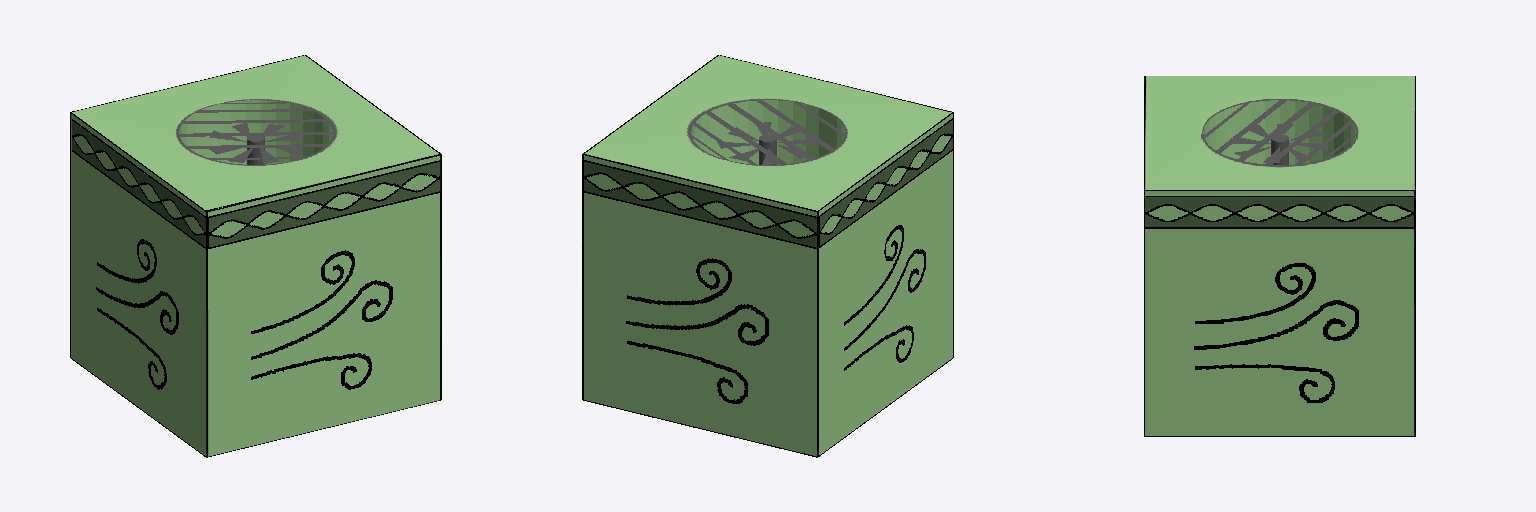
The picture shows the model from 3 angles: view 1: azimuth 30°, elevation 25°; view 2: azimuth 150°, elevation 25°; view 3: azimuth 270°, elevation 25°; orthographic projection.
Parts seen in each view (by area): view 1: 円柱; view 2: 円柱; view 3: 円柱.
Boxes of the visible parts, <box> form: 円柱: <box>70,55,441,457</box>; 円柱: <box>582,55,953,457</box>; 円柱: <box>1144,76,1415,436</box>.
Size of the model in its own units: 2 by 2 by 2.
Materials: 1 (1 with a texture image).